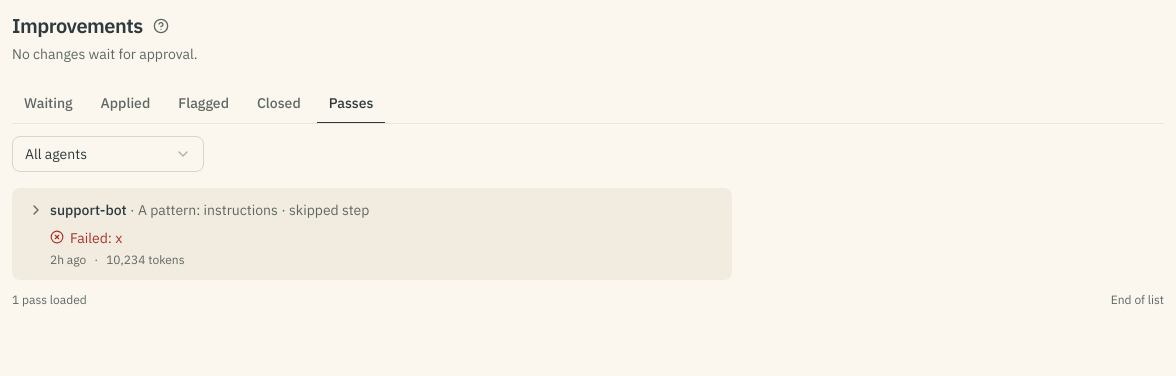
Test: a pass › says when a pass left no report
This screenshot has width=1176, height=376.
Click the button "support-bot · A pattern: instructions · skipped step".
click(372, 210)  # box [24,200,720,220]
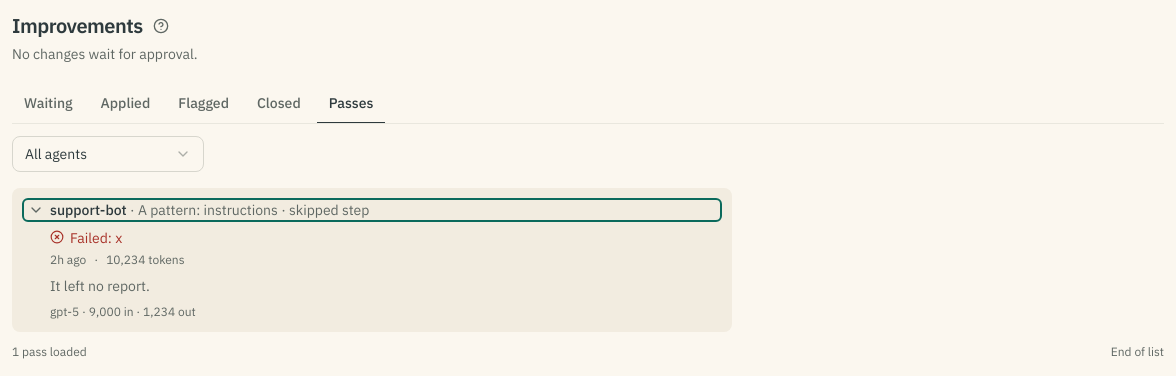
Result: the text "It left no report." is shown at [50,277,150,295]
